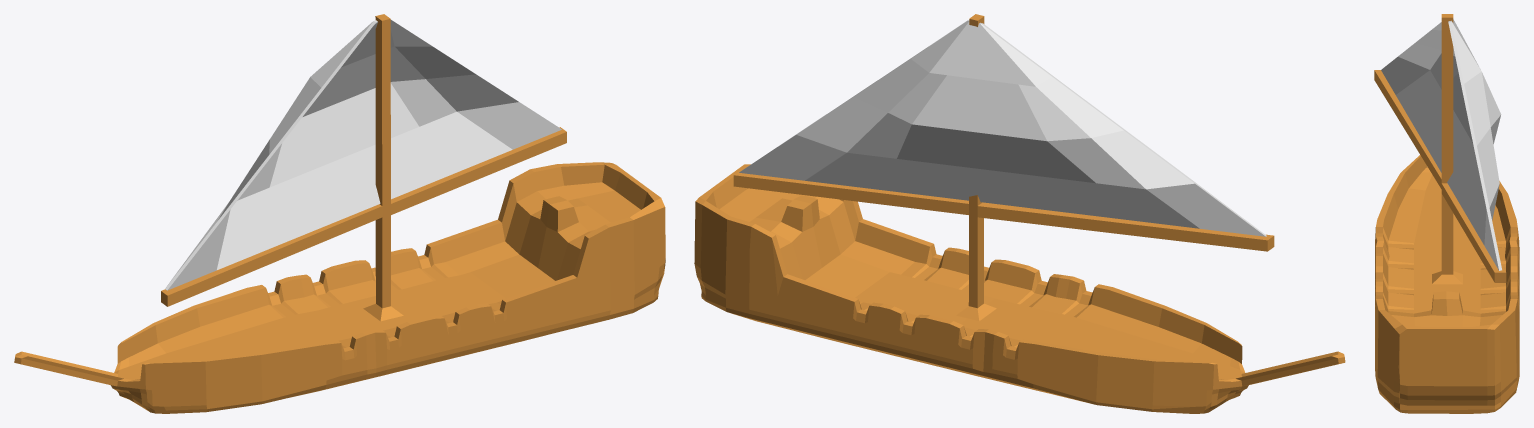
File: sloop.glb
3 renders of one model, left to right at view 1: azimuth 30°, elevation 25°; view 2: azimuth 150°, elevation 25°; view 3: azimuth 270°, elevation 25°, orthographic. The views are drawn at different scales.
Visible parts, largest first — view 1: Cube; view 2: Cube; view 3: Cube.
Boxes of the visible parts, x1=… form: Cube: x1=14, y1=14, x2=665, y2=413; Cube: x1=694, y1=14, x2=1345, y2=413; Cube: x1=1374, y1=14, x2=1519, y2=413.
Bounding box in the file's own units: 26.81 × 13.66 × 6.04.
